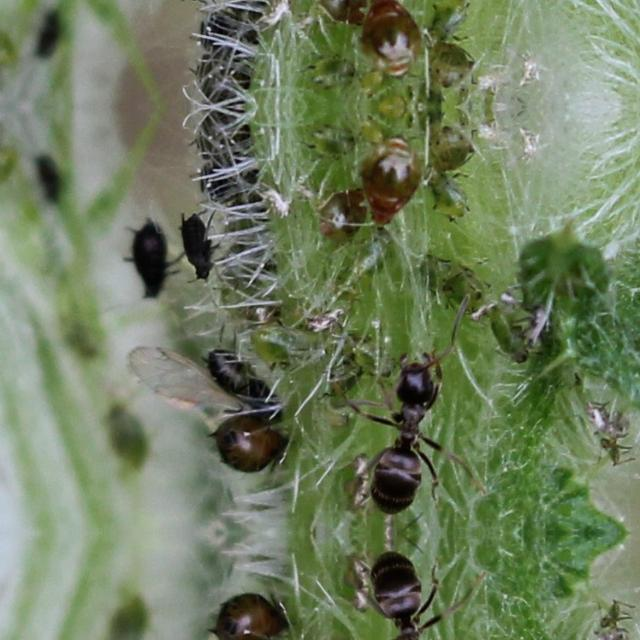Lasius: (354, 322, 466, 528), (354, 536, 464, 640)
